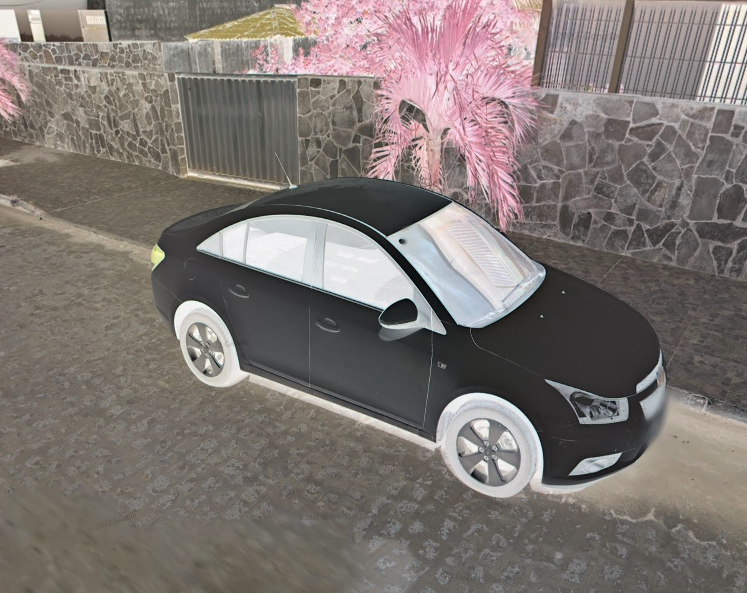car: (145, 147, 669, 503)
